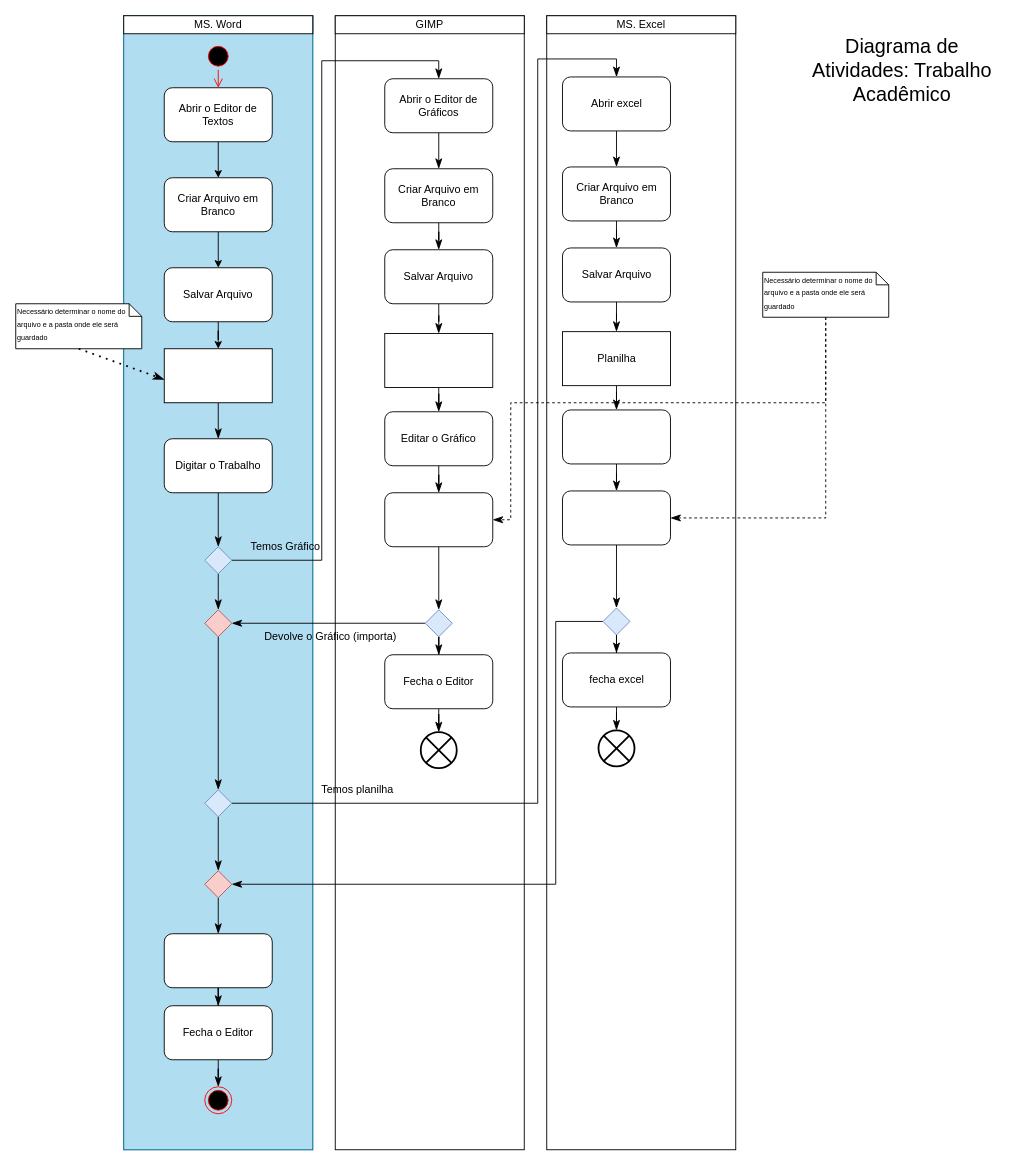
The diagram is 1022 pixels wide and 1166 high, and some of its shapes have lost their labels. Here are the shapes that lost their labels. From the top down, the box of each, then its label:
(163, 348, 272, 403): Arquivo Criado
(384, 333, 493, 387): Gráfico Criado
(562, 409, 670, 464): Editar planilha
(384, 492, 493, 547): Salvar o Gráfico
(562, 490, 670, 545): Salva Planilha
(163, 933, 272, 988): Salvar Em Pdf
